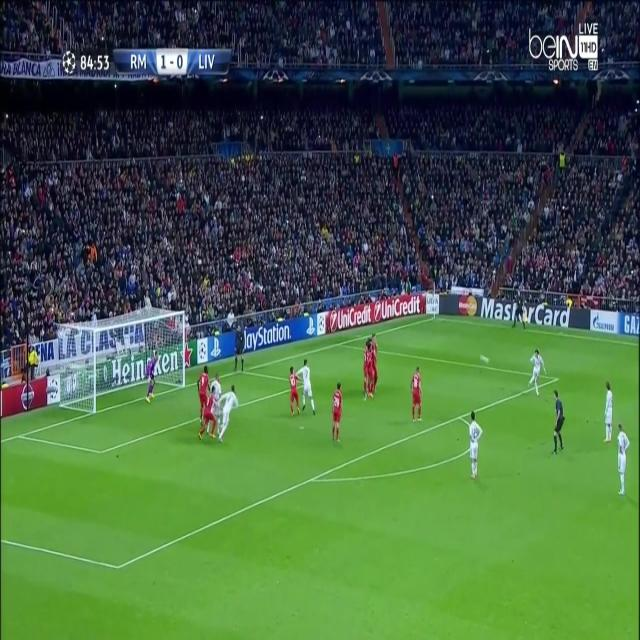Ball: (478, 347, 491, 367)
Goalkeeper: (145, 344, 162, 404)
Player: (216, 383, 239, 446), (466, 406, 484, 482), (614, 422, 631, 502), (295, 359, 317, 418), (525, 348, 548, 400), (409, 362, 426, 432), (196, 388, 217, 443), (330, 381, 345, 448), (602, 378, 615, 445), (196, 361, 211, 416), (287, 366, 301, 421), (370, 331, 380, 396)
Referee: (550, 387, 565, 458), (232, 321, 247, 374), (512, 290, 527, 332)
